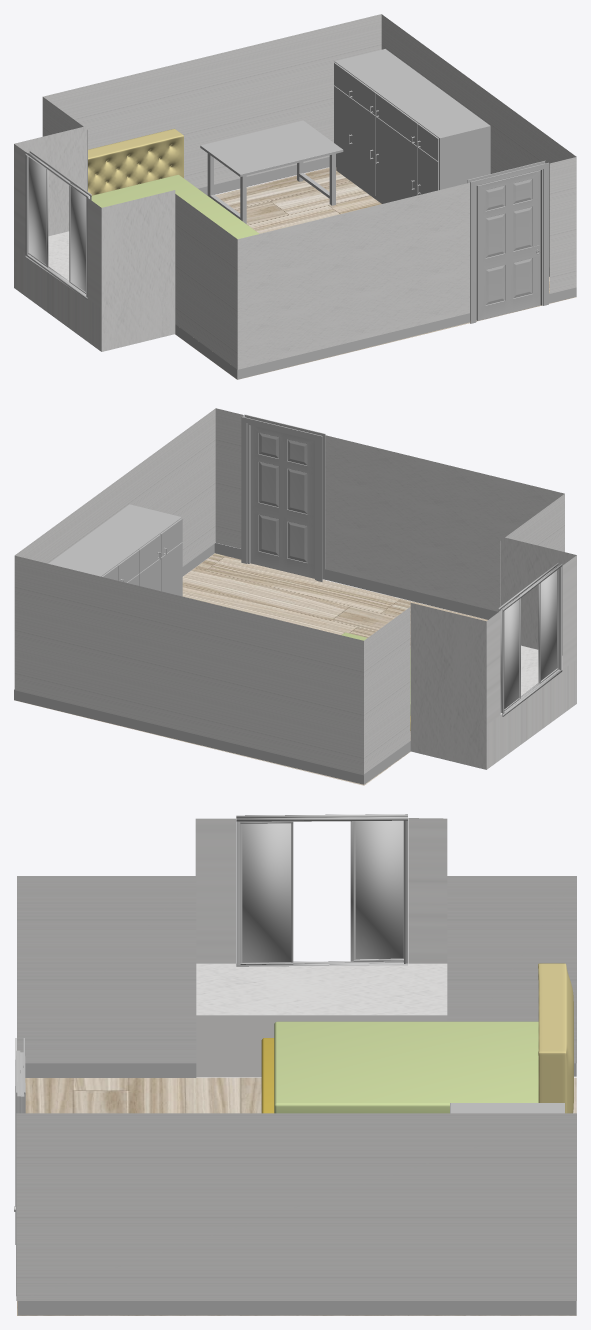
The picture shows the model from 3 angles, top to bottom: view 1: azimuth 30°, elevation 25°; view 2: azimuth 150°, elevation 25°; view 3: azimuth 270°, elevation 25°; orthographic projection. The views are drawn at different scales.
Parts seen in each view (by area): view 1: 平面.001_平面.004, 立方体, wardrobe, door, Cube.006_Cube.007, floor_平面.002, 平面_平面.003, Box001, ChamferBox002, Object004, Object006, SlidingWindow001; view 2: 平面.001_平面.004, 立方体, door, floor_平面.002, wardrobe, 平面_平面.003, Object004, SlidingWindow001, Object006, Object005, Object003; view 3: 平面.001_平面.004, 立方体, ChamferBox002, 平面_平面.003, floor_平面.002, Object004, Object006, Box001, SlidingWindow001, Cube.006_Cube.007, Object005, door (+1 smaller).
Boxes of the visible parts, box(x1,y1,x2,y2) form: 平面.001_平面.004: box(42, 14, 576, 369); 立方体: box(14, 126, 175, 351); wardrobe: box(334, 49, 490, 203); door: box(467, 160, 548, 323); Cube.006_Cube.007: box(200, 120, 343, 223); floor_平面.002: box(179, 167, 576, 379); 平面_平面.003: box(175, 157, 576, 379); Box001: box(88, 129, 183, 195); ChamferBox002: box(91, 174, 259, 239); Object004: box(28, 157, 47, 267); Object006: box(70, 186, 89, 291); SlidingWindow001: box(25, 151, 91, 299); 平面.001_平面.004: box(14, 408, 564, 775); 立方体: box(410, 536, 576, 769); door: box(241, 414, 325, 581); floor_平面.002: box(16, 553, 487, 785); wardrobe: box(48, 504, 182, 596); 平面_平面.003: box(14, 543, 498, 784); Object004: box(504, 598, 520, 709); SlidingWindow001: box(498, 563, 562, 716); Object006: box(541, 566, 557, 680); Object005: box(538, 566, 558, 683); Object003: box(500, 595, 520, 712); 平面.001_平面.004: box(16, 876, 576, 1300); 立方体: box(195, 818, 447, 1077); ChamferBox002: box(274, 1021, 538, 1113); 平面_平面.003: box(17, 1063, 576, 1315); floor_平面.002: box(17, 1077, 576, 1315); Object004: box(350, 820, 403, 961); Object006: box(242, 823, 291, 962); Box001: box(538, 963, 573, 1113); SlidingWindow001: box(236, 814, 407, 966); Cube.006_Cube.007: box(450, 1103, 564, 1113); Object005: box(240, 821, 293, 964); door: box(14, 1038, 25, 1295).
Size of the model in its own units: 48.91 by 16.54 by 39.98.
Materials: 23 (3 with a texture image).
